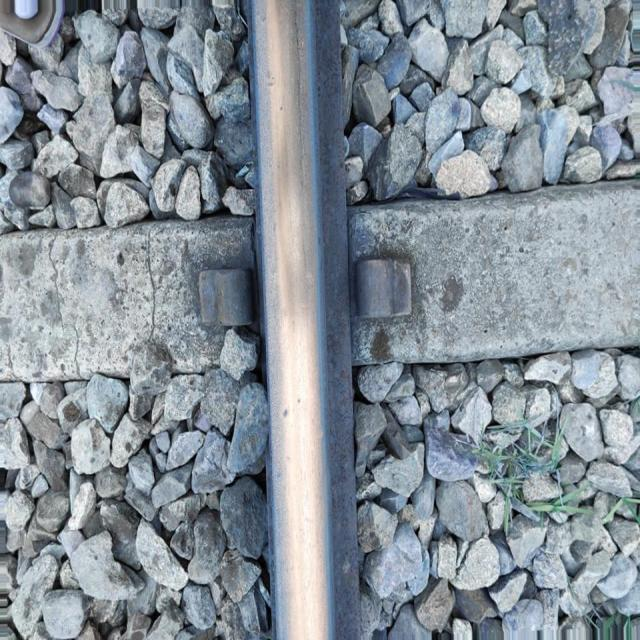Missing Fastener: (175, 241, 255, 361), (345, 255, 446, 346)
